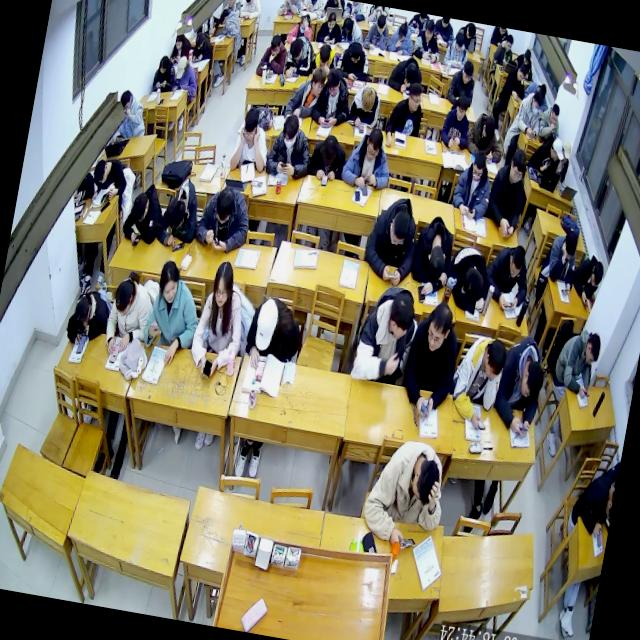bow: (406, 212, 458, 297), (442, 242, 493, 316), (155, 176, 204, 249), (120, 178, 167, 244), (63, 286, 112, 348), (464, 109, 508, 163), (568, 252, 606, 308), (306, 132, 348, 182), (282, 32, 316, 82), (386, 54, 424, 94), (386, 19, 416, 56), (286, 11, 314, 45)
down: (408, 456, 442, 507), (250, 295, 280, 350), (519, 358, 547, 399), (482, 335, 508, 379), (386, 208, 411, 246), (112, 276, 134, 318), (213, 185, 236, 224), (241, 105, 261, 144), (279, 113, 300, 150), (508, 146, 528, 184), (363, 126, 384, 162), (506, 243, 526, 279), (72, 296, 92, 331), (468, 148, 488, 181), (584, 331, 603, 365), (130, 191, 150, 222), (320, 132, 340, 163), (168, 198, 188, 228), (324, 67, 342, 98), (560, 230, 578, 261), (479, 114, 496, 146), (359, 84, 376, 112), (588, 260, 604, 288), (92, 158, 109, 184), (117, 88, 133, 115), (287, 37, 303, 61), (530, 88, 544, 115), (460, 60, 475, 85), (317, 41, 332, 66), (347, 42, 363, 64), (175, 53, 188, 79), (268, 33, 282, 57), (404, 61, 418, 84), (560, 138, 572, 162), (515, 60, 528, 82), (548, 102, 560, 125), (422, 19, 435, 40), (298, 12, 310, 34), (340, 16, 353, 36), (396, 20, 409, 40), (192, 31, 205, 51), (156, 54, 169, 74), (453, 31, 465, 52), (375, 14, 387, 34), (502, 32, 514, 51), (173, 30, 184, 50), (218, 6, 230, 24), (326, 10, 336, 29), (522, 48, 532, 65), (244, 0, 254, 5)
lookup: (424, 301, 454, 354), (210, 258, 236, 307), (156, 258, 181, 302), (453, 94, 469, 121), (226, 0, 238, 8)
sit: (356, 432, 452, 554), (398, 298, 466, 422), (186, 258, 253, 382), (138, 258, 208, 368), (350, 282, 420, 386), (444, 332, 508, 432), (491, 332, 550, 438), (359, 191, 423, 287), (240, 292, 306, 374), (101, 272, 156, 356), (192, 180, 254, 254), (482, 146, 530, 240), (340, 123, 396, 191), (550, 325, 602, 398), (449, 146, 497, 222), (264, 111, 315, 181), (484, 240, 534, 311), (382, 78, 426, 152), (538, 226, 582, 296), (310, 66, 354, 130), (283, 62, 327, 124), (110, 88, 150, 146), (438, 92, 475, 150), (88, 156, 130, 206), (510, 86, 544, 140), (444, 56, 478, 109), (254, 30, 290, 80), (346, 82, 383, 128), (332, 40, 372, 82), (528, 132, 566, 174), (411, 18, 445, 64), (170, 53, 202, 97), (501, 59, 530, 102), (362, 13, 392, 52), (314, 8, 344, 44), (151, 53, 178, 93), (442, 30, 470, 68), (537, 100, 564, 139), (310, 41, 340, 76), (190, 28, 217, 66), (216, 8, 246, 40), (553, 138, 573, 184), (511, 46, 536, 82), (492, 30, 516, 66), (170, 31, 193, 64), (340, 14, 365, 44), (238, 0, 264, 21)
